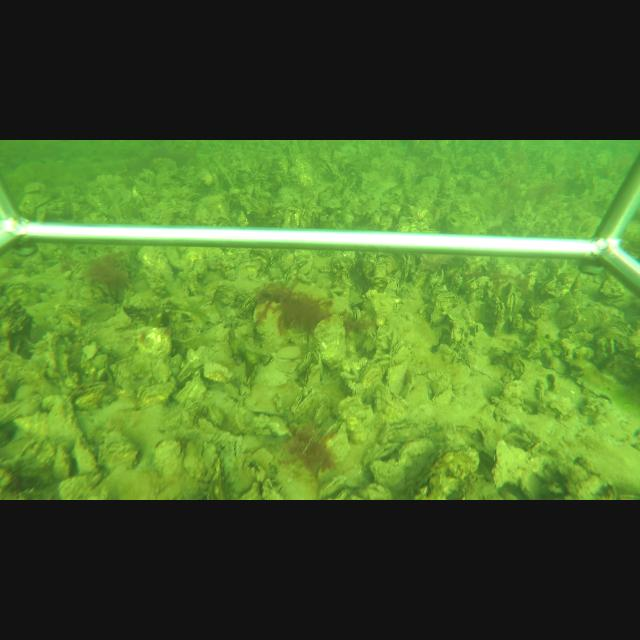Oyster-Closed: (406, 445, 481, 498), (367, 438, 440, 490), (489, 438, 533, 489), (312, 314, 346, 368), (358, 355, 391, 397), (70, 381, 108, 410), (483, 289, 504, 335), (291, 351, 312, 373), (401, 253, 415, 282), (506, 290, 519, 316)
